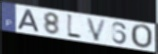6: (112, 22, 128, 45)
8: (42, 12, 61, 36)
A: (17, 8, 41, 34)
L: (66, 13, 82, 41)
O: (130, 24, 154, 51)
V: (85, 17, 108, 43)
